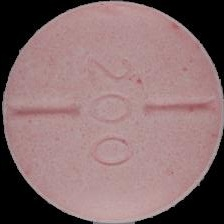67544-890: (0, 0, 224, 224)
